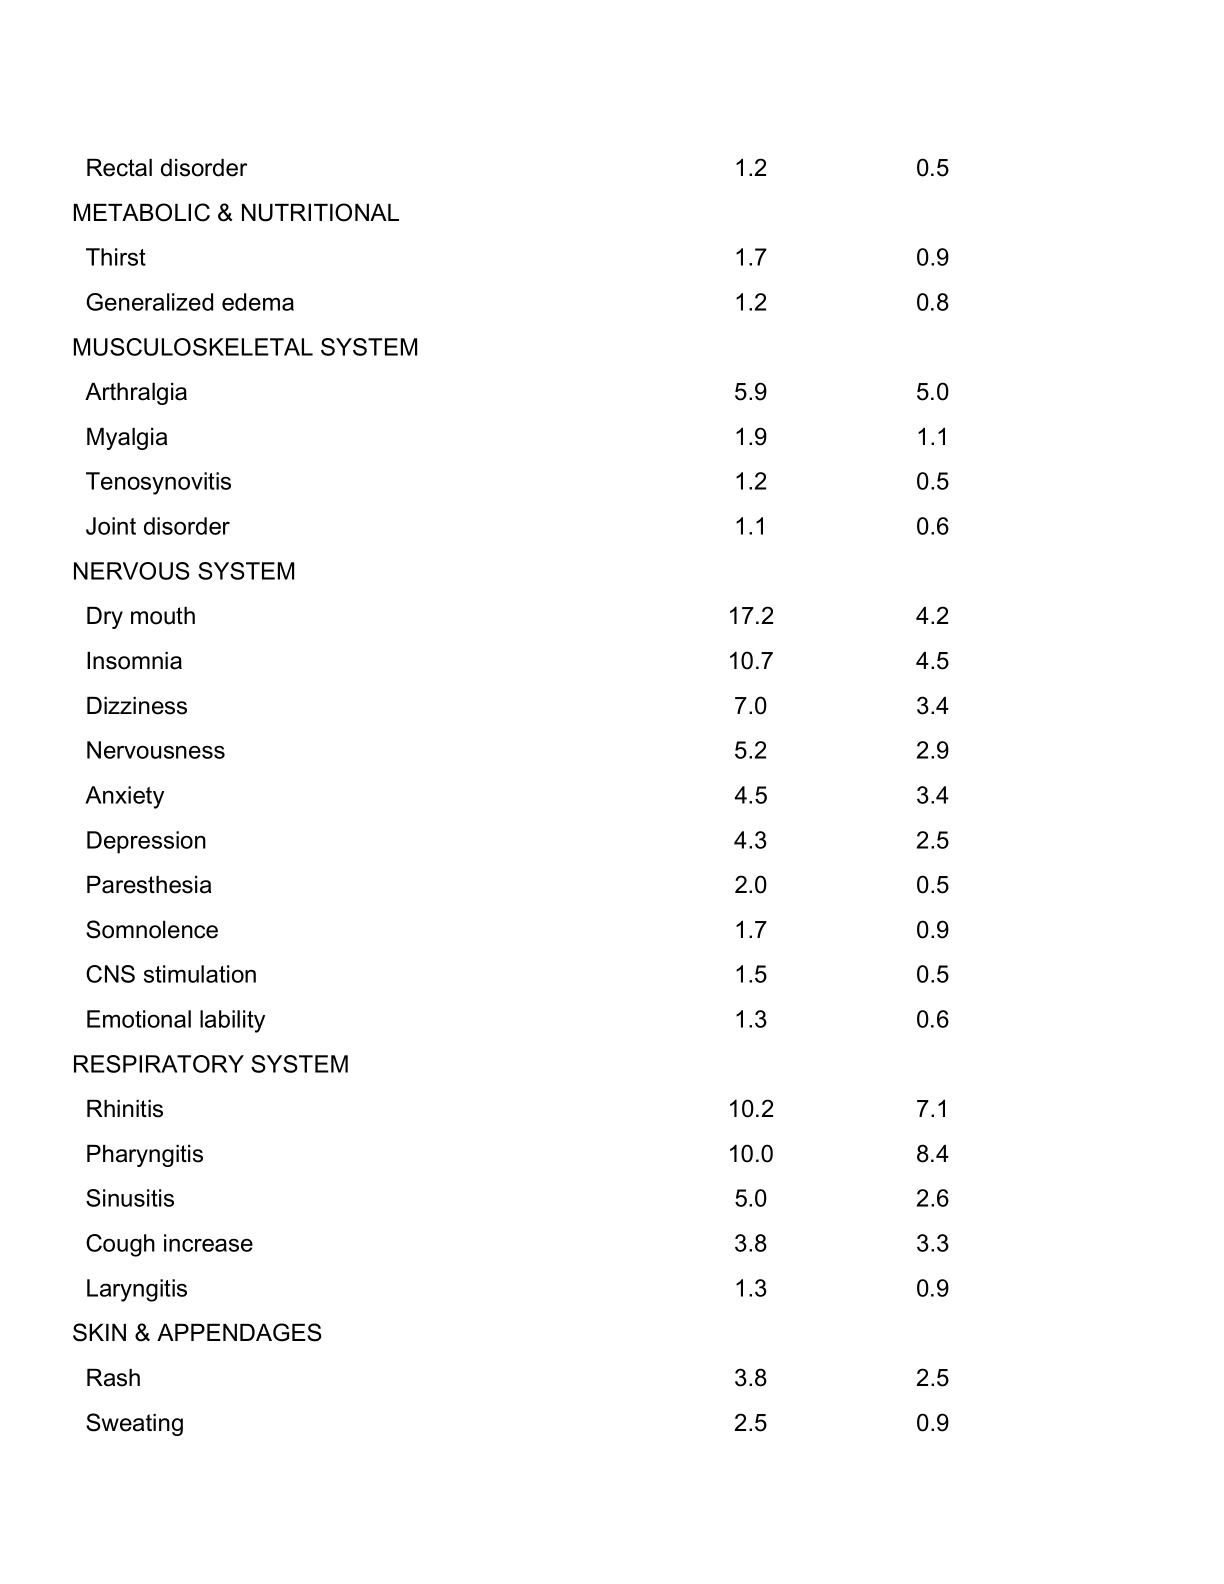nolines: (69, 152, 959, 1436)
